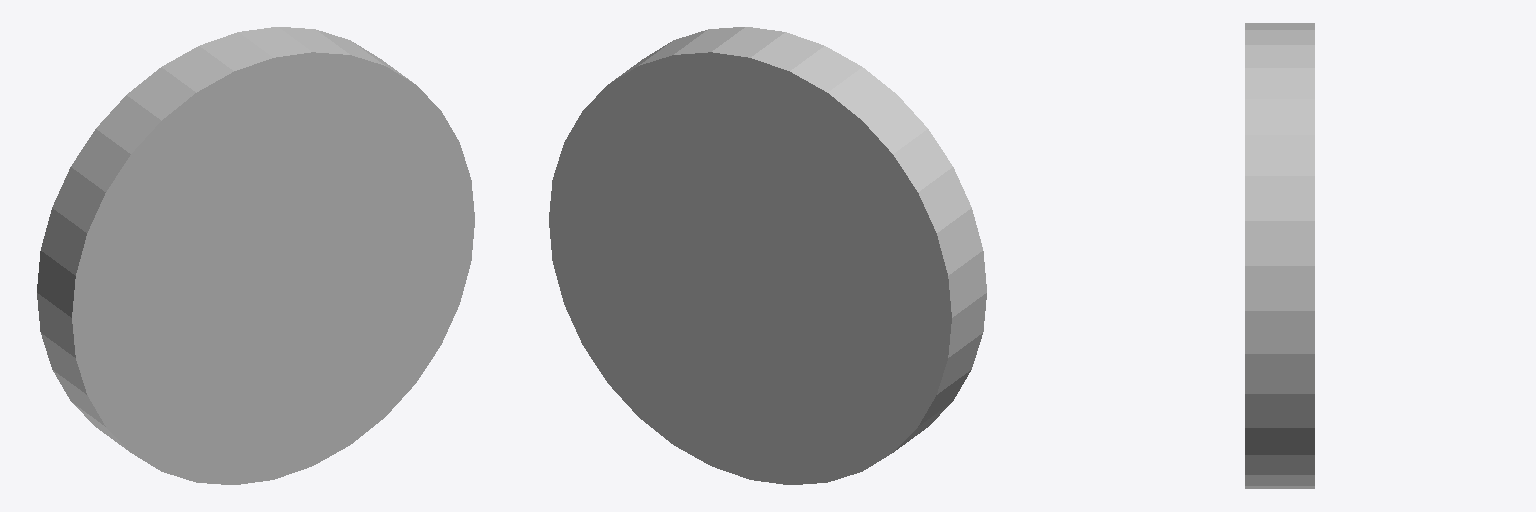
File: kanel.obj
3 renders of one model, left to right at view 1: azimuth 30°, elevation 25°; view 2: azimuth 150°, elevation 25°; view 3: azimuth 270°, elevation 25°, orthographic.
Visible parts, largest first — view 1: Cylinder; view 2: Cylinder; view 3: Cylinder.
Boxes of the visible parts, x1,y1,x2,y2 form: Cylinder: [37, 27, 474, 484]; Cylinder: [549, 27, 986, 484]; Cylinder: [1245, 23, 1314, 488].
Size of the model in its own units: 0.086 by 0.086 by 0.013.